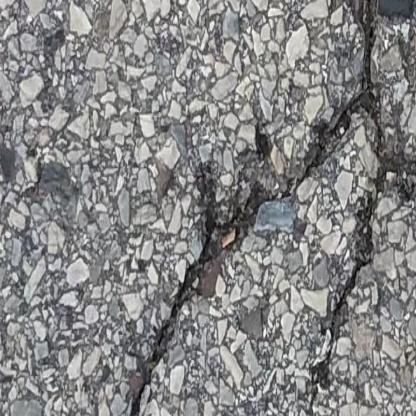Cracks: (128, 0, 416, 416)
